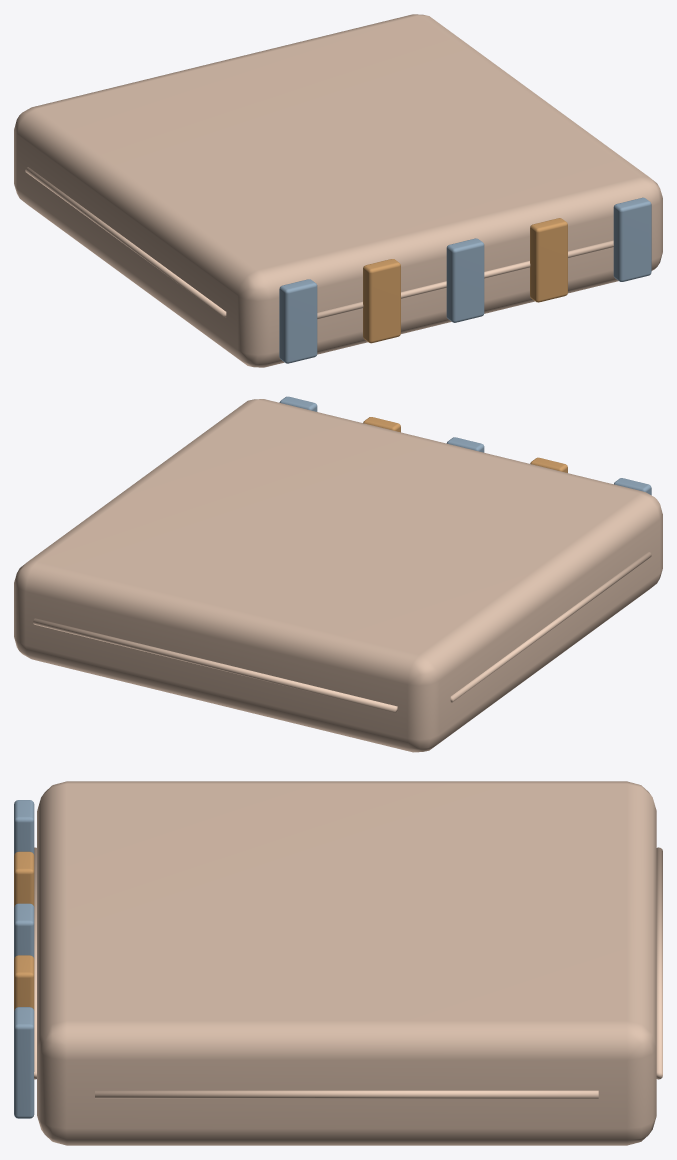
Rendered from almofada-espiga.glb.
The picture shows the model from 3 angles, top to bottom: view 1: azimuth 30°, elevation 25°; view 2: azimuth 150°, elevation 25°; view 3: azimuth 270°, elevation 25°; orthographic projection. The views are drawn at different scales.
Visible parts, largest first — view 1: Almofada interior, Padrao tecido.002, Padrao tecido, Padrao tecido.004, Padrao tecido.003, Padrao tecido.001, Pesponto de canto, Pesponto lateral; view 2: Almofada interior, Pesponto lateral.001, Pesponto de canto; view 3: Almofada interior, Pesponto de canto.001, Padrao tecido.004, Pesponto lateral.001, Padrao tecido.002, Padrao tecido.001, Padrao tecido.003, Padrao tecido, Pesponto lateral.
Boxes of the visible parts, <box> form: Almofada interior: <box>14,14,662,367</box>; Padrao tecido.002: <box>446,238,484,322</box>; Padrao tecido: <box>279,279,317,363</box>; Padrao tecido.004: <box>613,197,651,281</box>; Padrao tecido.003: <box>530,218,567,302</box>; Padrao tecido.001: <box>363,259,400,343</box>; Pesponto de canto: <box>25,167,226,317</box>; Pesponto lateral: <box>317,240,613,319</box>; Almofada interior: <box>14,399,662,752</box>; Pesponto lateral.001: <box>33,618,397,712</box>; Pesponto de canto: <box>450,552,651,702</box>; Almofada interior: <box>37,781,656,1145</box>; Pesponto de canto.001: <box>95,1090,598,1098</box>; Padrao tecido.004: <box>14,1007,34,1118</box>; Pesponto lateral.001: <box>656,847,662,1079</box>; Padrao tecido.002: <box>14,903,34,958</box>; Padrao tecido.001: <box>14,851,34,906</box>; Padrao tecido.003: <box>14,955,34,1010</box>; Padrao tecido: <box>14,800,34,855</box>; Pesponto lateral: <box>34,847,36,1079</box>.
Size of the model in its own units: 0.369 by 0.0792 by 0.3813.
